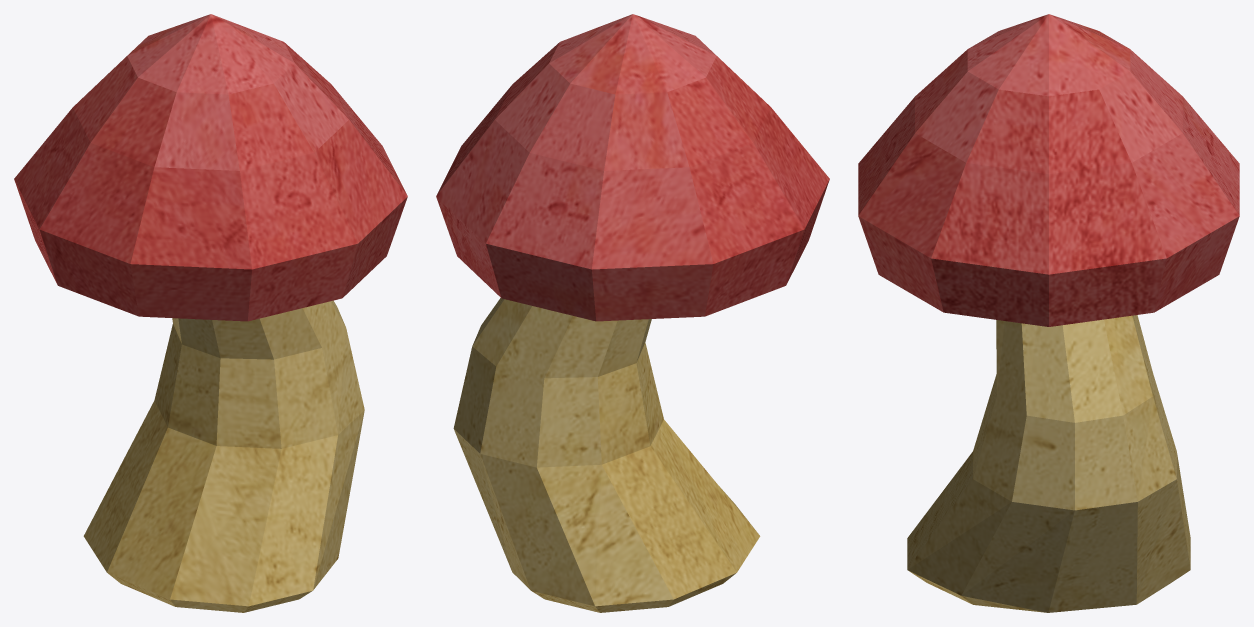
File: Pilz.fbx
3 views of the same model, side by side, from view 1: azimuth 30°, elevation 25°; view 2: azimuth 150°, elevation 25°; view 3: azimuth 270°, elevation 25° (orthographic).
Parts seen in each view (by area): view 1: Pilz_1; view 2: Pilz_1; view 3: Pilz_1.
Part boxes in pixels (bbox=[...]): Pilz_1: bbox=[14, 14, 407, 612]; Pilz_1: bbox=[436, 14, 829, 612]; Pilz_1: bbox=[858, 14, 1239, 612].
Size of the model in its own units: 91.89 by 140 by 87.4.
